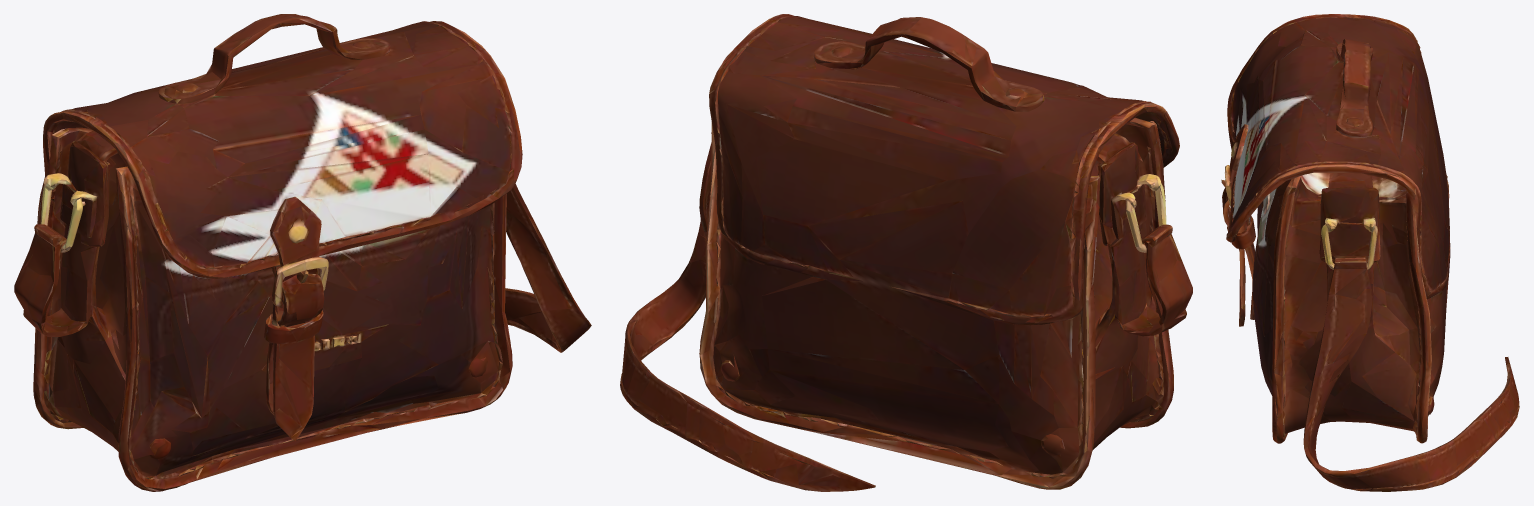
File: mail_bag.glb
The picture shows the model from 3 angles, left to right: view 1: azimuth 30°, elevation 25°; view 2: azimuth 150°, elevation 25°; view 3: azimuth 270°, elevation 25°; orthographic projection. The views are drawn at different scales.
Bounding box in the file's own units: 1.9 × 1.33 × 1.06.
Materials: 1 (1 with a texture image).
